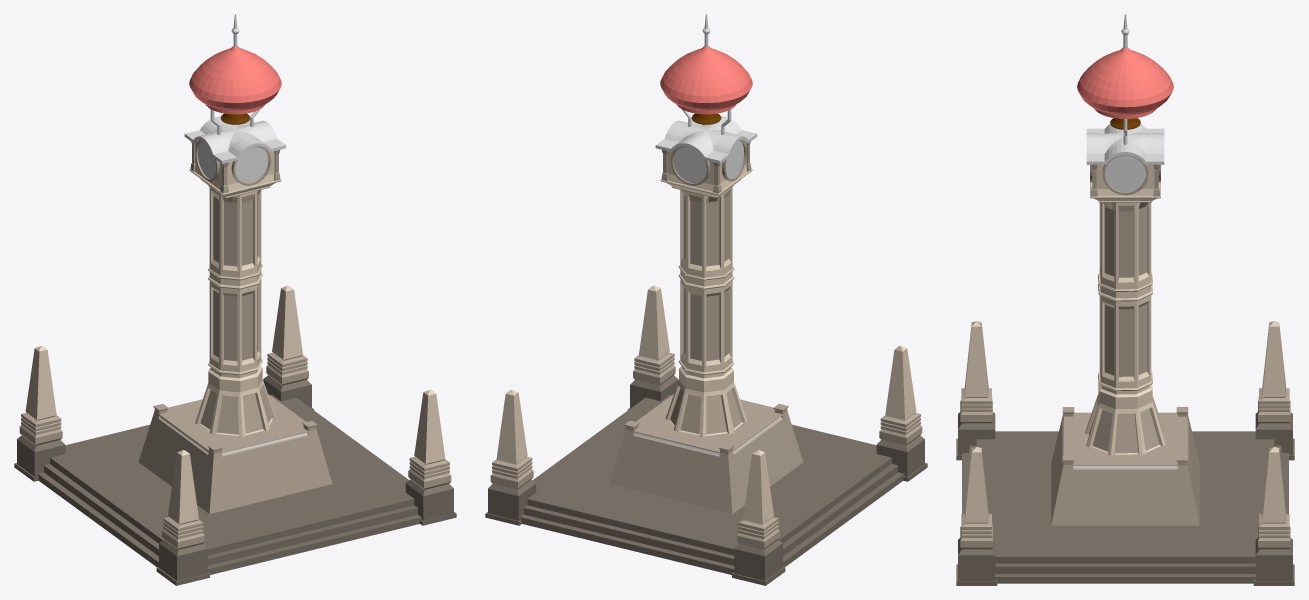
File: TownSquareMonument.fbx
3 renders of one model, left to right at view 1: azimuth 30°, elevation 25°; view 2: azimuth 150°, elevation 25°; view 3: azimuth 270°, elevation 25°, orthographic. The views are drawn at different scales.
Visible parts, largest first — view 1: Cube, Cylinder, Cube.001, Cylinder.005, Cube.004, Cube.003, Cube.002, Cube.005, Cube.011, Cylinder.002, Cube.006, Cylinder.004; view 2: Cube, Cylinder, Cube.001, Cylinder.005, Cube.002, Cube.005, Cube.004, Cube.003, Cube.011, Cylinder.001, Cube.006, Cylinder.004; view 3: Cube, Cylinder, Cube.001, Cylinder.005, Cube.003, Cube.005, Cube.002, Cube.004, Cube.011, Cylinder.003, Cube.006.
Boxes of the visible parts, left/top/right/bottom form: Cube: left=37, top=395, right=421, bottom=574; Cylinder: left=195, top=186, right=275, bottom=437; Cube.001: left=138, top=394, right=332, bottom=513; Cylinder.005: left=189, top=14, right=281, bottom=114; Cube.004: left=156, top=450, right=209, bottom=585; Cube.003: left=405, top=390, right=456, bottom=525; Cube.002: left=14, top=346, right=65, bottom=481; Cube.005: left=263, top=285, right=314, bottom=410; Cube.011: left=184, top=116, right=286, bottom=163; Cylinder.002: left=231, top=146, right=271, bottom=185; Cube.006: left=189, top=143, right=281, bottom=198; Cylinder.004: left=195, top=139, right=220, bottom=181; Cube: left=520, top=395, right=904, bottom=574; Cylinder: left=665, top=186, right=747, bottom=437; Cube.001: left=609, top=394, right=803, bottom=513; Cylinder.005: left=660, top=14, right=752, bottom=114; Cube.002: left=732, top=450, right=785, bottom=585; Cube.005: left=485, top=390, right=536, bottom=525; Cube.004: left=876, top=346, right=927, bottom=481; Cube.003: left=627, top=285, right=678, bottom=410; Cube.011: left=655, top=116, right=757, bottom=163; Cylinder.001: left=670, top=146, right=710, bottom=185; Cube.006: left=660, top=143, right=752, bottom=198; Cylinder.004: left=721, top=139, right=746, bottom=181; Cube: left=962, top=431, right=1288, bottom=583; Cylinder: left=1085, top=202, right=1165, bottom=455; Cube.001: left=1051, top=407, right=1199, bottom=525; Cylinder.005: left=1077, top=14, right=1173, bottom=118; Cube.003: left=956, top=447, right=997, bottom=585; Cube.005: left=1253, top=447, right=1294, bottom=585; Cube.002: left=1255, top=321, right=1294, bottom=460; Cube.004: left=956, top=321, right=995, bottom=460; Cube.011: left=1086, top=124, right=1164, bottom=164; Cylinder.003: left=1102, top=155, right=1148, bottom=195; Cube.006: left=1090, top=164, right=1160, bottom=202.
Bounding box in the file's own units: 683 × 1113 × 683.
